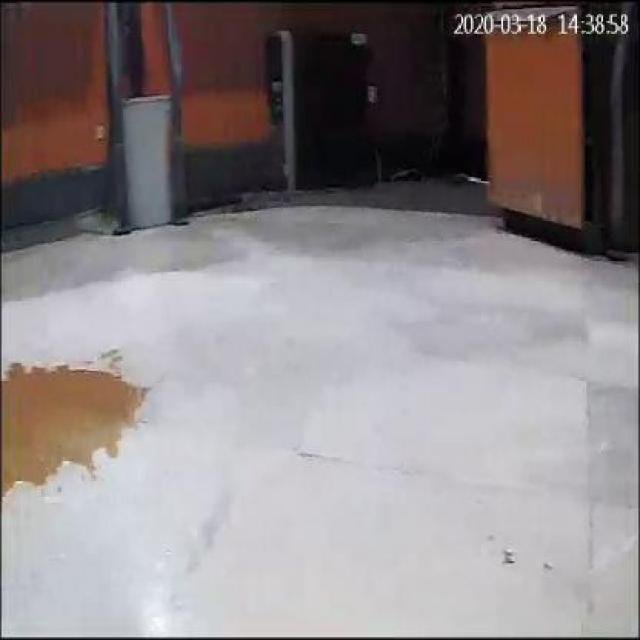spill: (3, 352, 148, 503)
